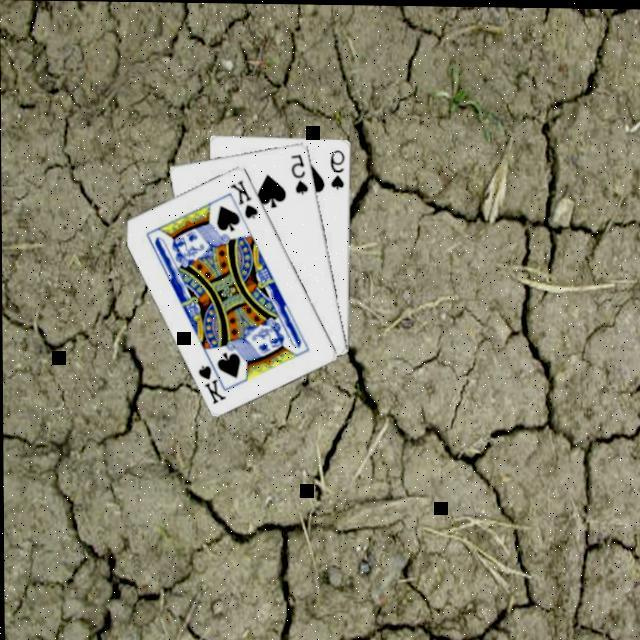5S: (289, 149, 312, 195)
9S: (328, 144, 349, 190)
KS: (196, 353, 231, 405), (229, 175, 262, 219)
